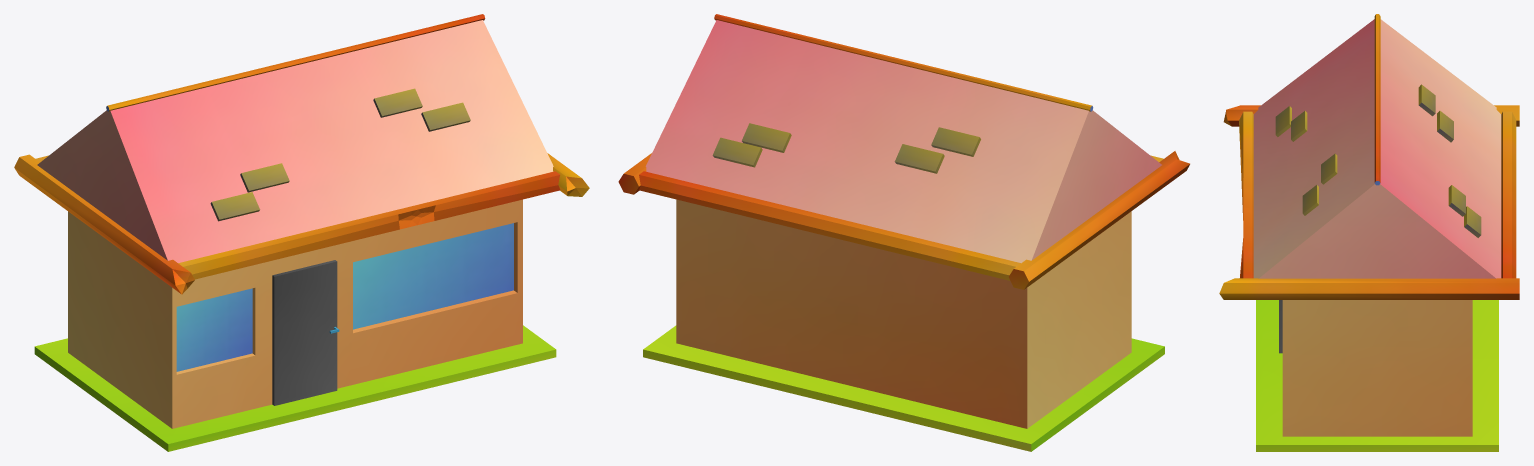
Rendered from House_12.fbx.
3 views of the same model, side by side, from view 1: azimuth 30°, elevation 25°; view 2: azimuth 150°, elevation 25°; view 3: azimuth 270°, elevation 25° (orthographic). The views are drawn at different scales.
Visible parts, largest first — view 1: House_12; view 2: House_12; view 3: House_12.
Part boxes in pixels (x1,y1,x2,y2): House_12: (14,14,589,451); House_12: (618,14,1189,451); House_12: (1219,14,1519,451).
Bounding box in the file's own units: 720 × 495 × 501.
1 material, 1 textured.
